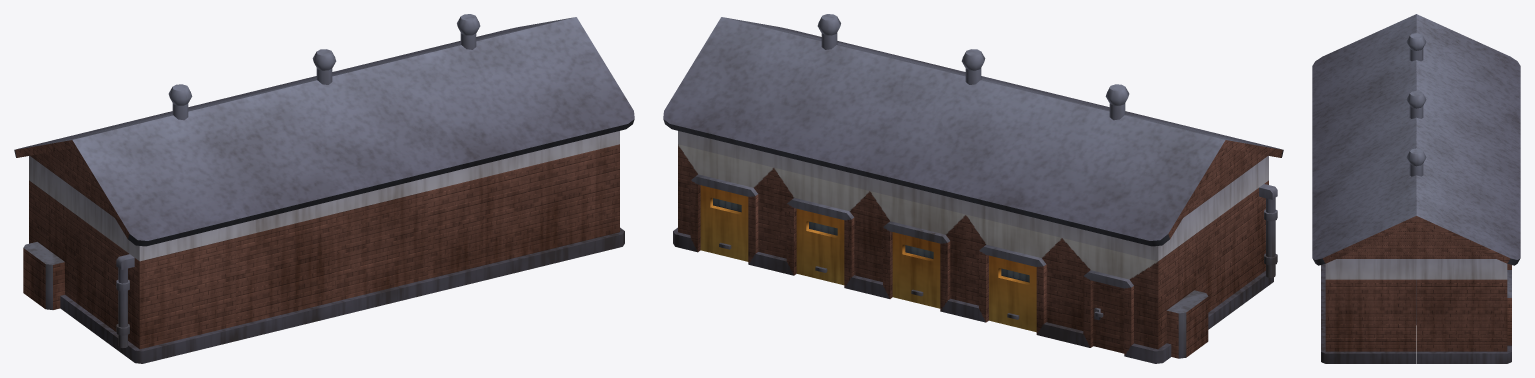
File: building-s-brown.glb
3 renders of one model, left to right at view 1: azimuth 30°, elevation 25°; view 2: azimuth 150°, elevation 25°; view 3: azimuth 270°, elevation 25°, orthographic. The views are drawn at different scales.
Parts seen in each view (by area): view 1: building-s; view 2: building-s; view 3: building-s.
Boxes of the visible parts, x1,y1,x2,y2 form: building-s: [14, 14, 634, 363]; building-s: [663, 14, 1283, 363]; building-s: [1312, 14, 1520, 363].
Size of the model in its own units: 2.12 by 0.8368 by 0.9163.
1 material, 1 textured.
